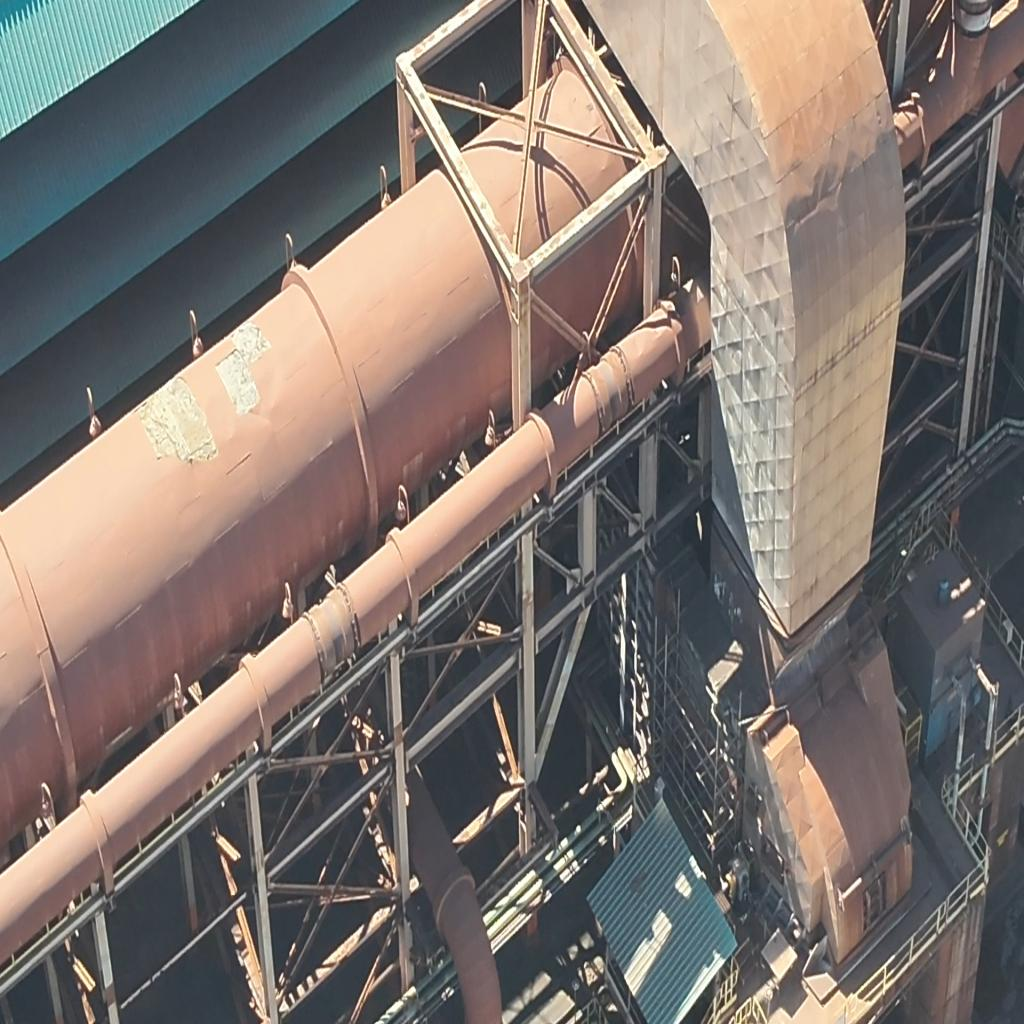Failures: (139, 370, 217, 466), (216, 351, 260, 416), (230, 321, 272, 362)
